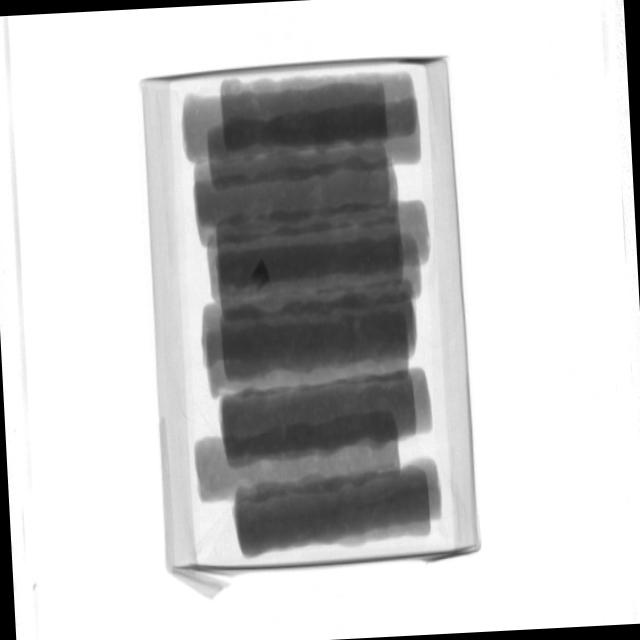ym: (250, 262, 271, 291)
